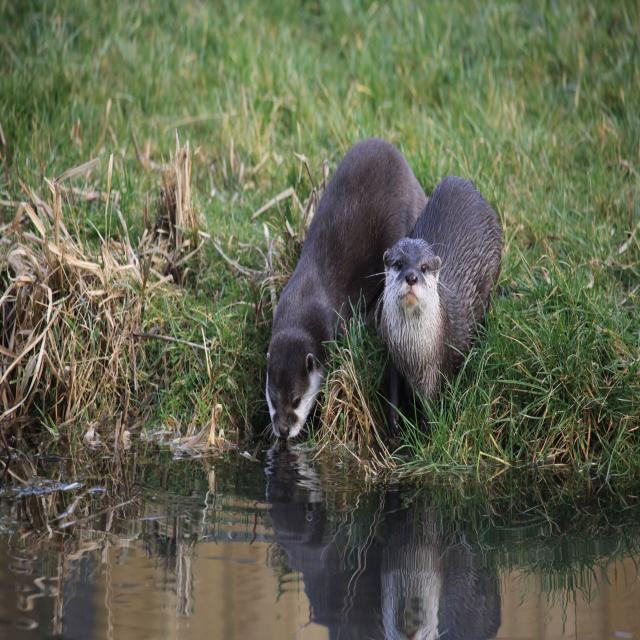Otter: (263, 134, 415, 436), (381, 170, 503, 373)
